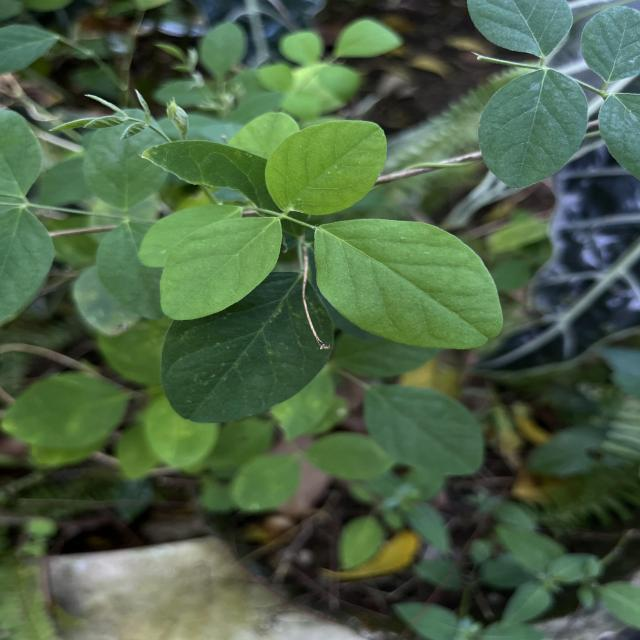Clitoria ternatea: (312, 216, 506, 351), (476, 68, 589, 190), (159, 215, 284, 322), (264, 119, 388, 216)
